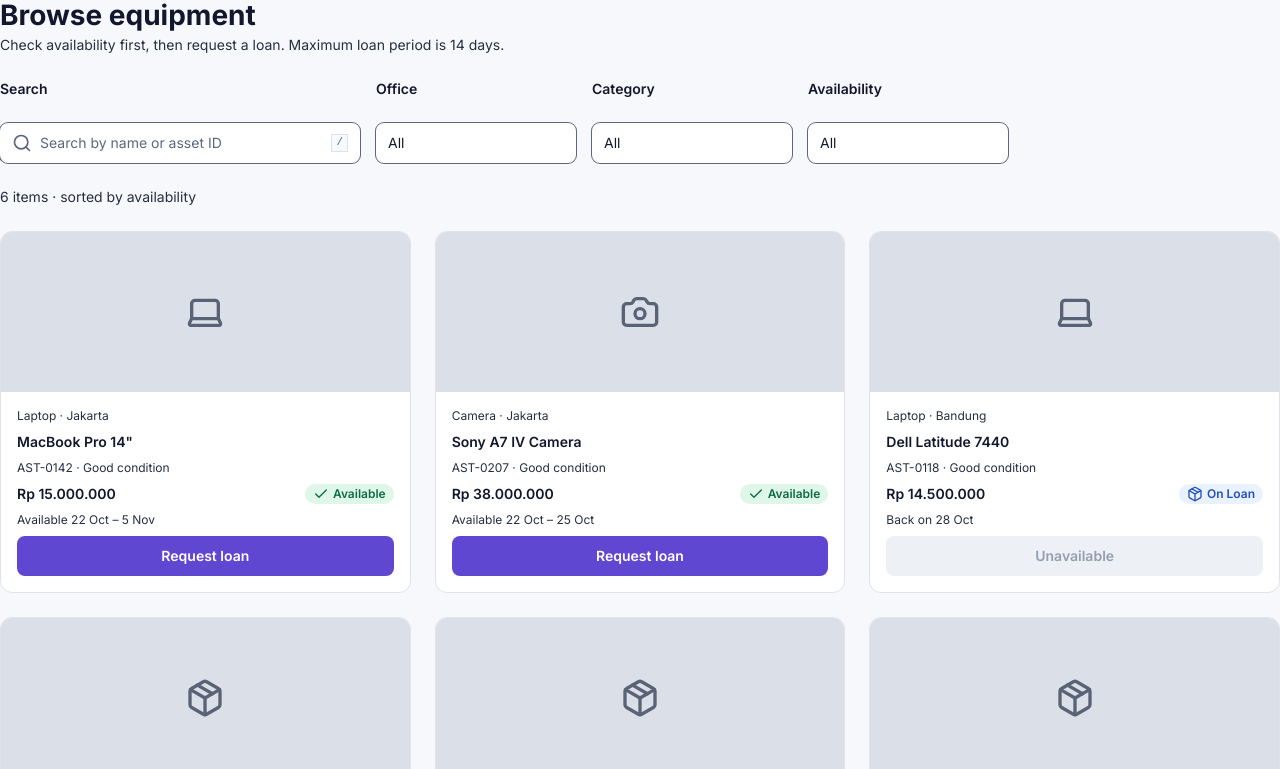
Test case: CatalogueClient › pluralises the alert for multiple requests
Click the button "Request loan" below "Rp 15.000.000": click(205, 556) [17, 536, 394, 576]
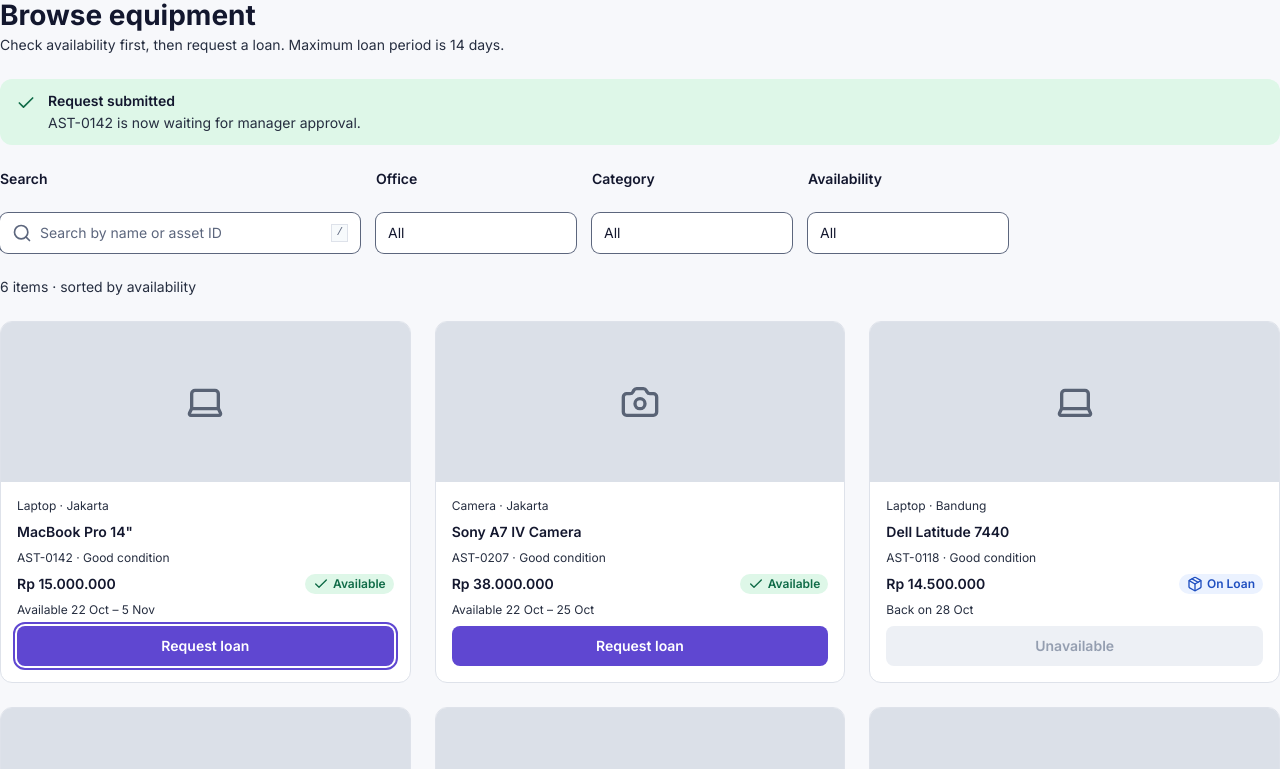
Click the button "Request loan" below "Available 22 Oct – 25 Oct": click(640, 646) [452, 626, 828, 666]
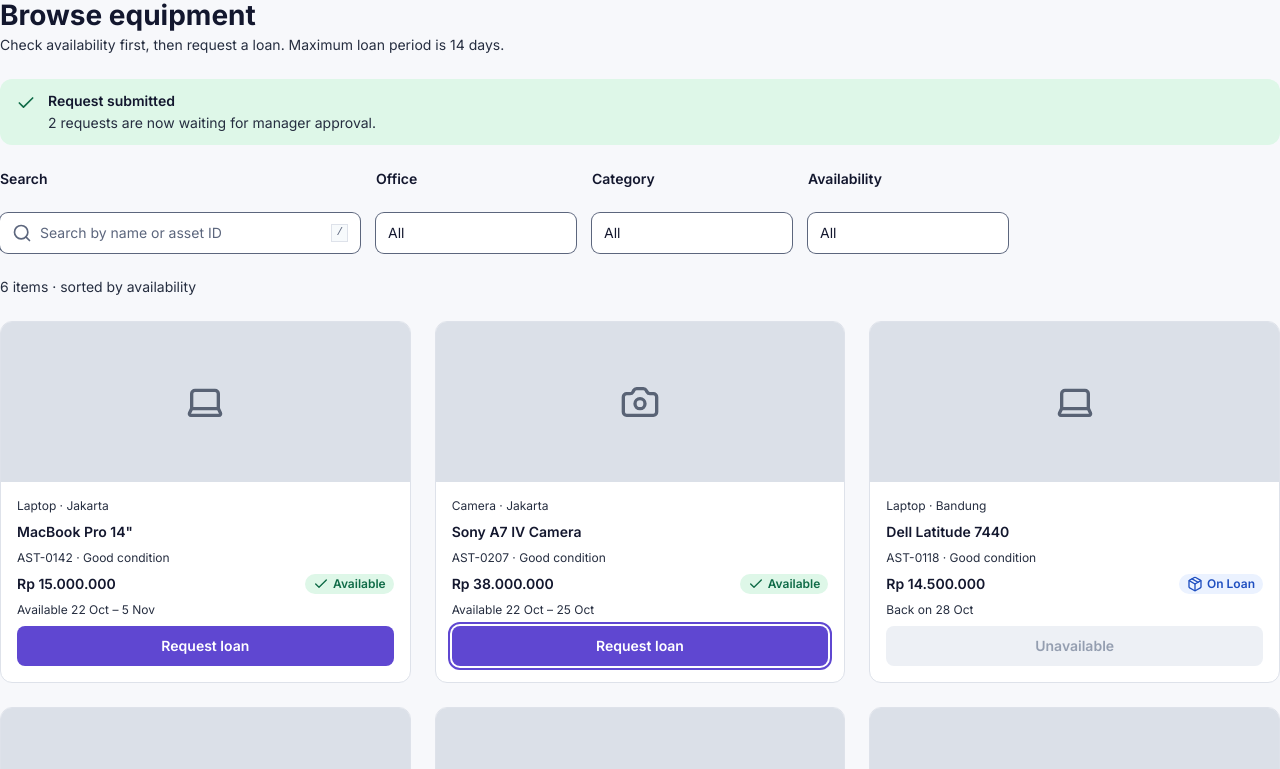
Expected: the text "2 requests are now waiting for manager approval." is shown, [48, 113, 376, 133]
